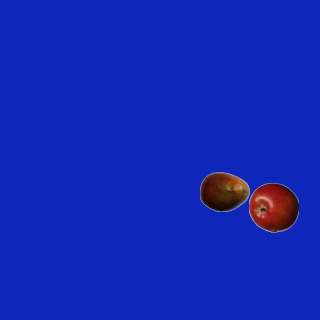Apple Braeburn: (248, 182, 298, 232)
Mango Red: (199, 166, 249, 216)
